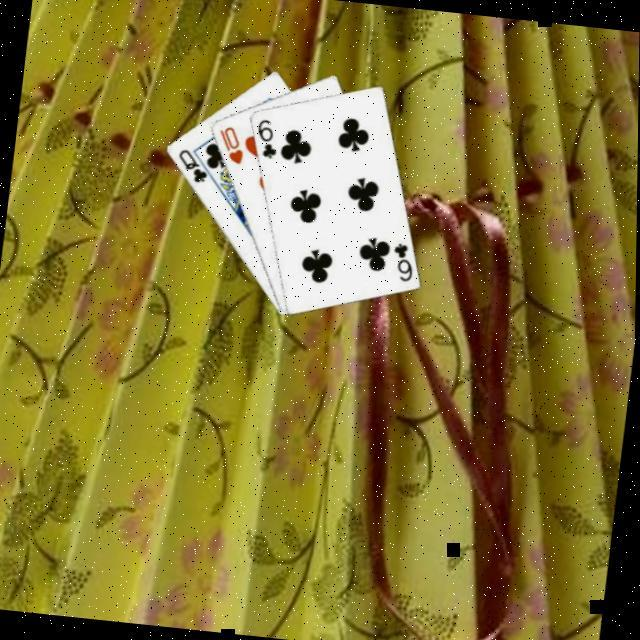10H: (212, 121, 249, 166)
6C: (250, 114, 283, 161), (386, 237, 417, 283)
QC: (170, 144, 212, 186)
